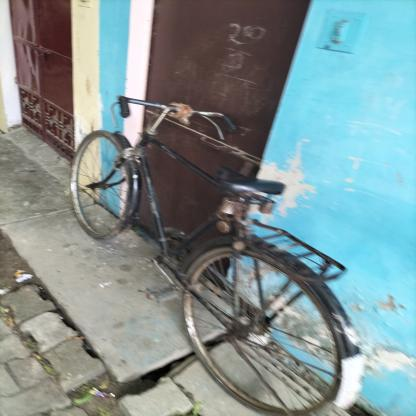bicycle: (34, 78, 382, 415)
